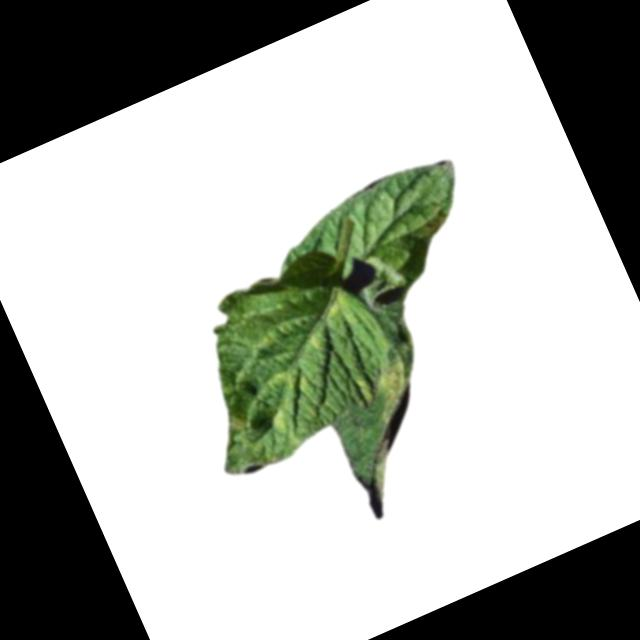Leaf_Mold: (159, 244, 413, 482), (349, 353, 425, 427)
